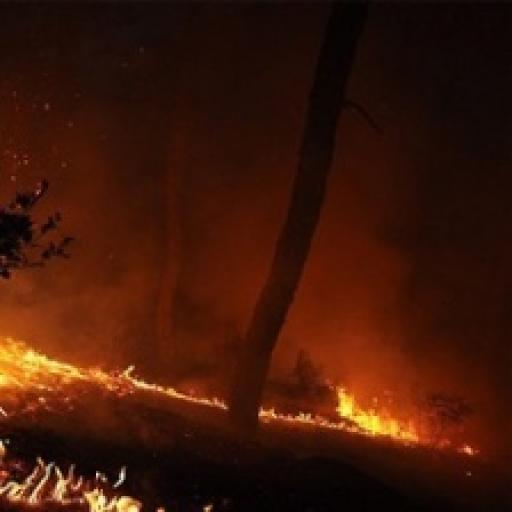fire and smoke: (0, 5, 326, 379)
